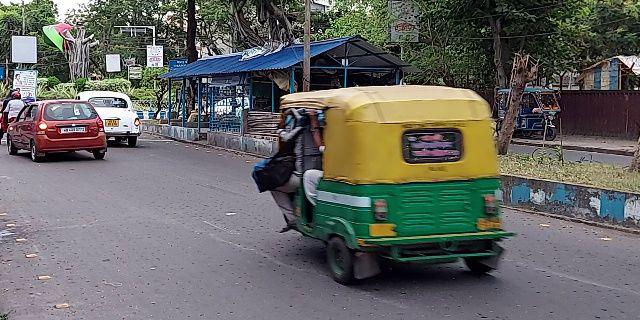Autorickshaw: (274, 90, 522, 286)
Car: (6, 96, 112, 164), (76, 88, 152, 143)
